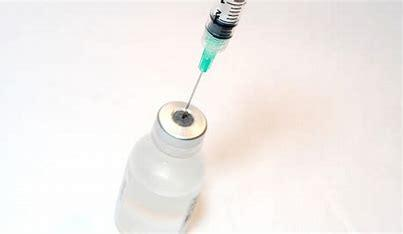Syringe: (109, 90, 214, 233), (175, 2, 251, 115)
